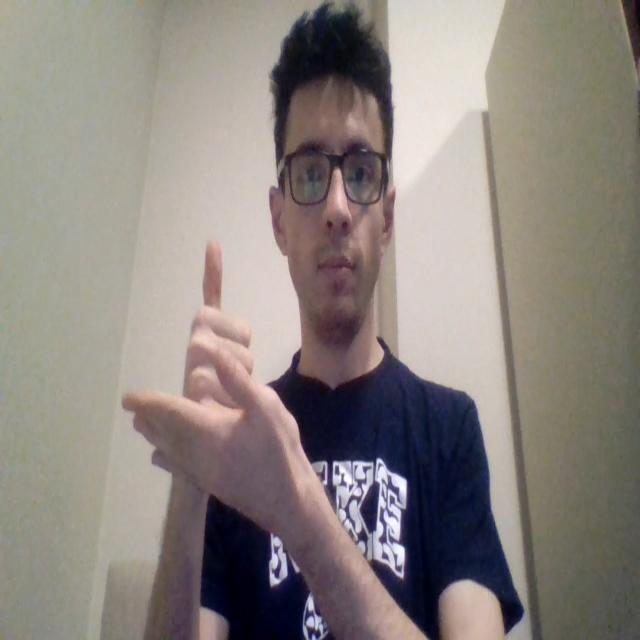help: (125, 242, 308, 516)
